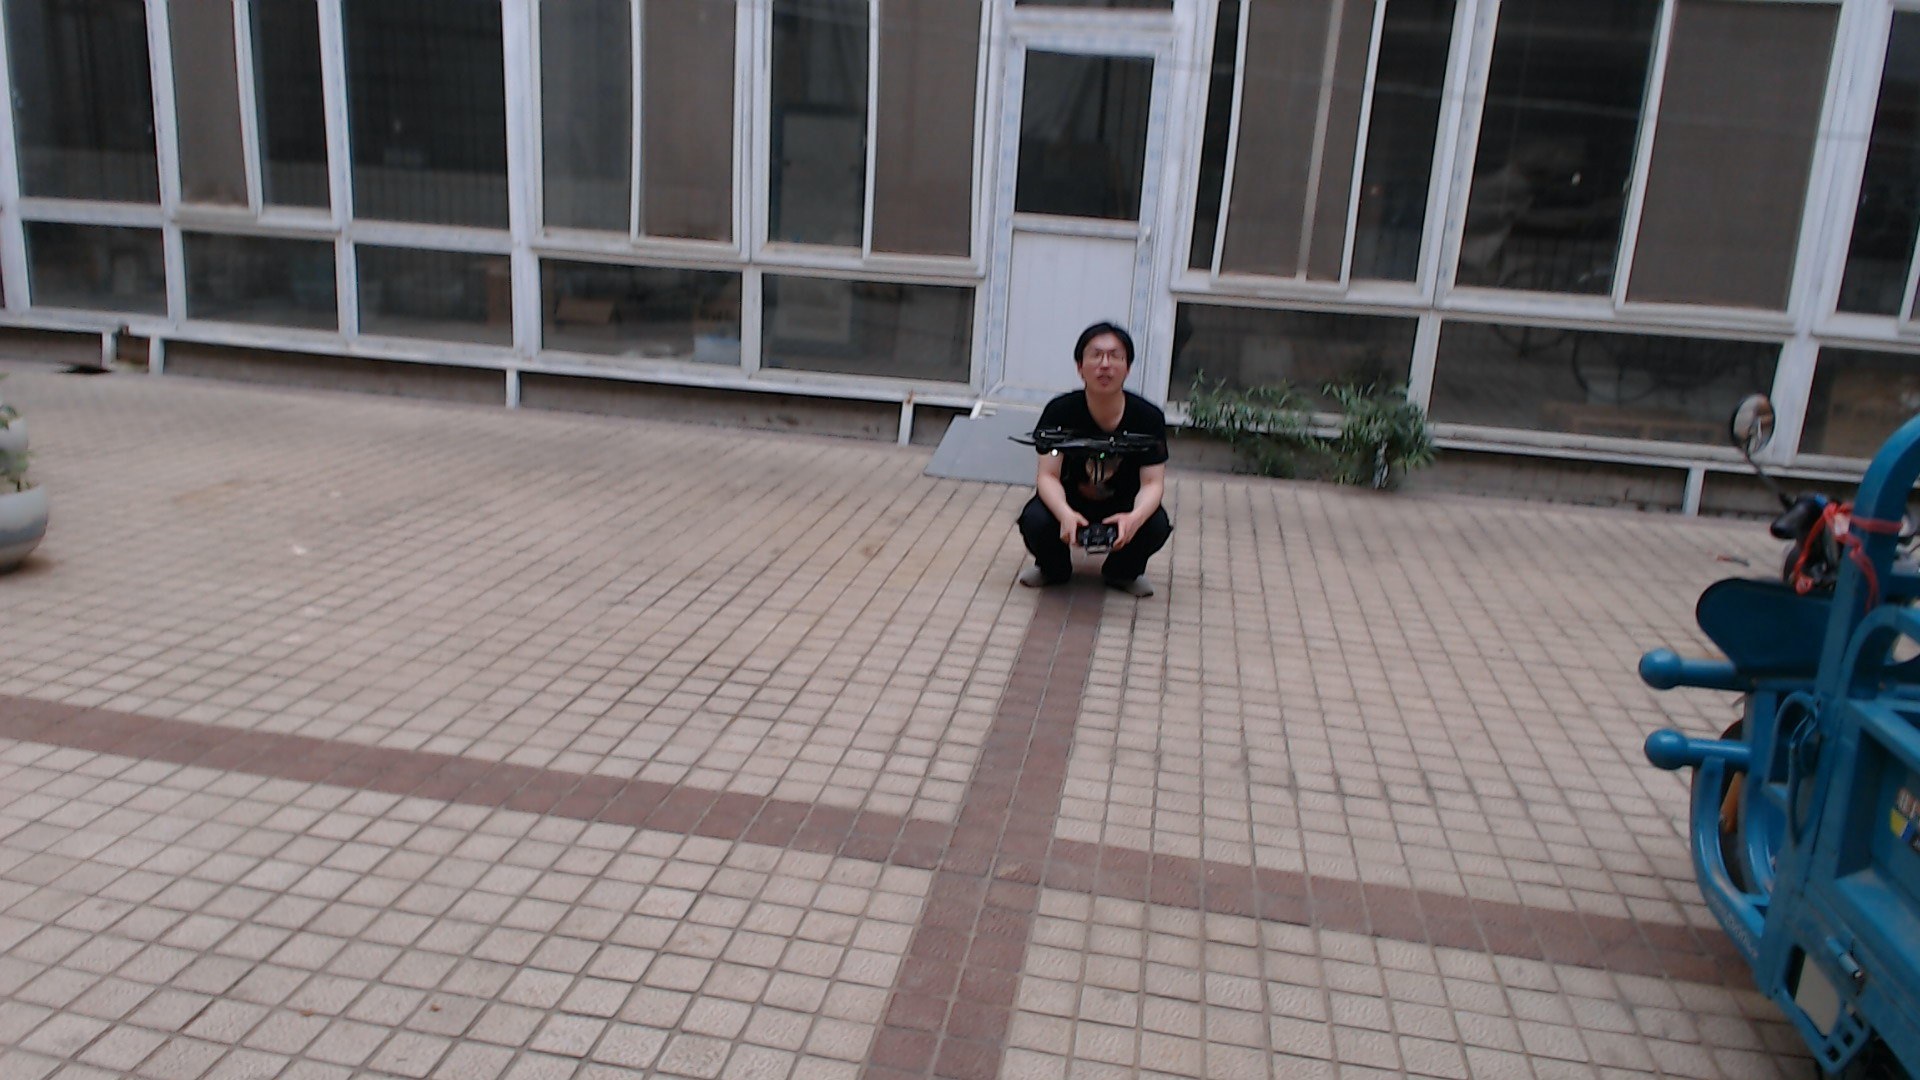drone: (1018, 416, 1154, 477)
person: (1011, 313, 1179, 609)
